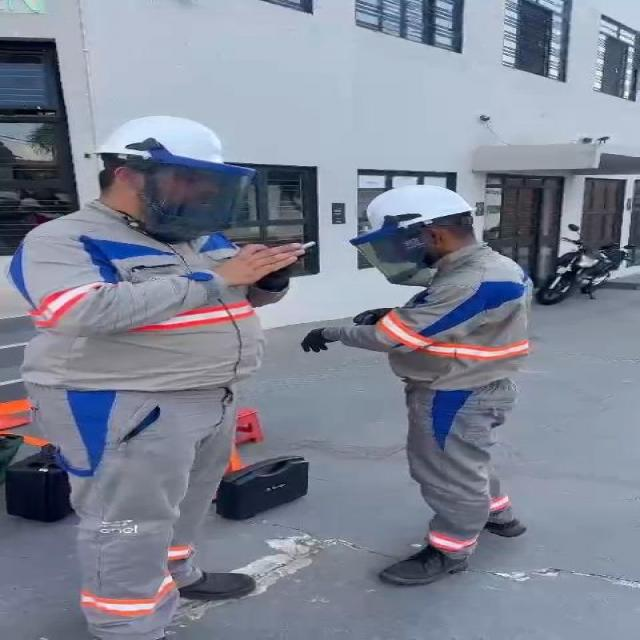Face_Shield: (124, 145, 262, 233), (337, 223, 446, 285)
Helmet: (89, 112, 271, 236), (359, 181, 488, 262)
No gloves: (220, 240, 318, 296), (286, 326, 334, 359), (356, 305, 394, 321)
